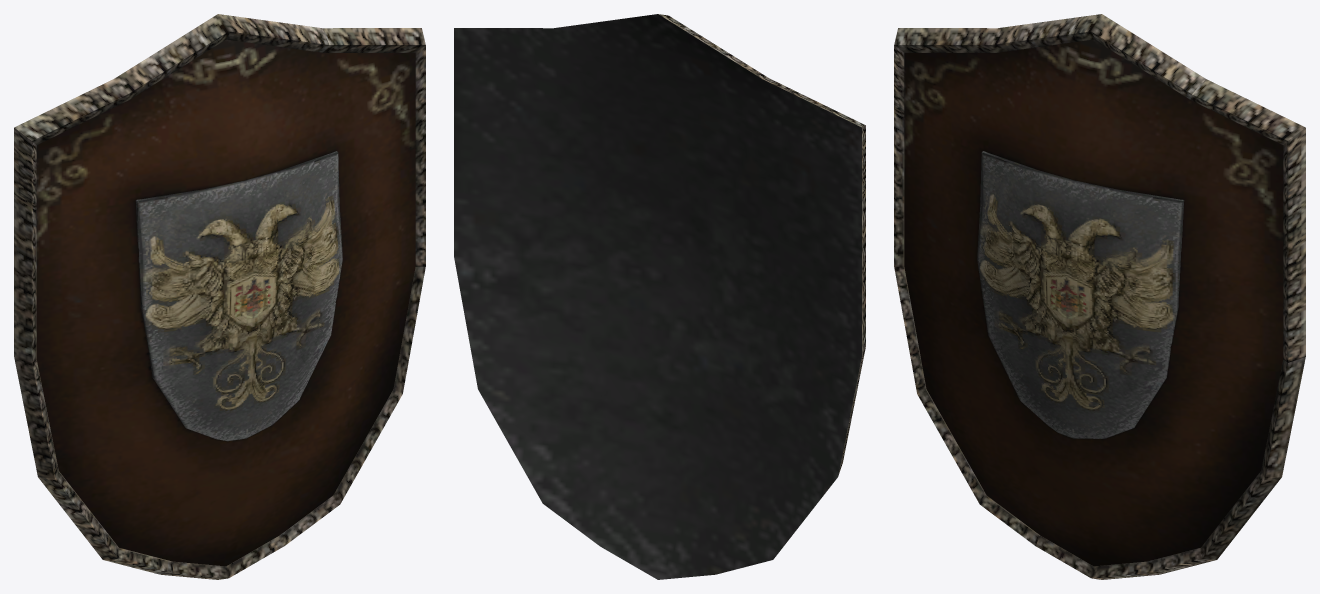
Rendered from shield01.dae.
The picture shows the model from 3 angles, left to right: view 1: azimuth 30°, elevation 25°; view 2: azimuth 150°, elevation 25°; view 3: azimuth 330°, elevation 25°; orthographic projection.
Visible parts, largest first — view 1: polySurface4; view 2: polySurface4; view 3: polySurface4.
Boxes of the visible parts, bbox=[...] form: polySurface4: bbox=[14, 14, 425, 579]; polySurface4: bbox=[454, 14, 865, 579]; polySurface4: bbox=[894, 14, 1305, 579].
Size of the model in its own units: 0.7004 by 0.929 by 0.1066.
